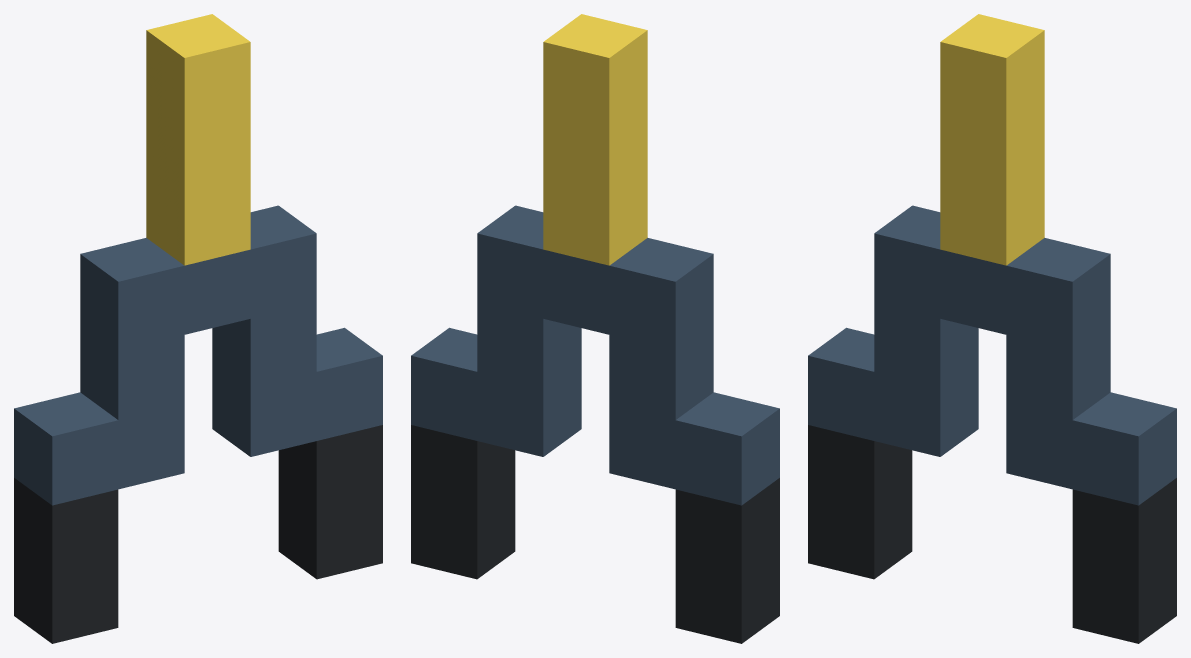
The model's file is Switch Handle.glb.
The picture shows the model from 3 angles, left to right: view 1: azimuth 30°, elevation 25°; view 2: azimuth 150°, elevation 25°; view 3: azimuth 330°, elevation 25°; orthographic projection.
Parts seen in each view (by area): view 1: generated(Clone); view 2: generated(Clone); view 3: generated(Clone).
Boxes of the visible parts, x1=… form: generated(Clone): x1=14, y1=14, x2=382, y2=643; generated(Clone): x1=411, y1=14, x2=779, y2=643; generated(Clone): x1=808, y1=14, x2=1176, y2=643.
Size of the model in its own units: 5 by 8 by 1.
1 material, 1 textured.
